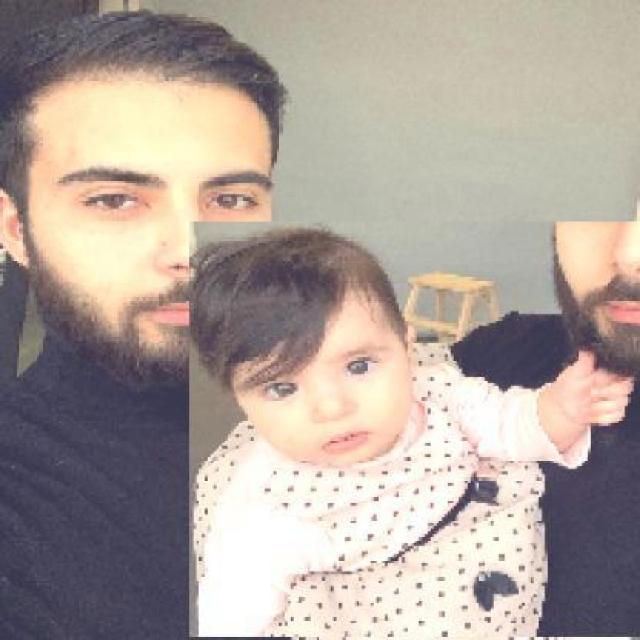child: (188, 221, 640, 638)
